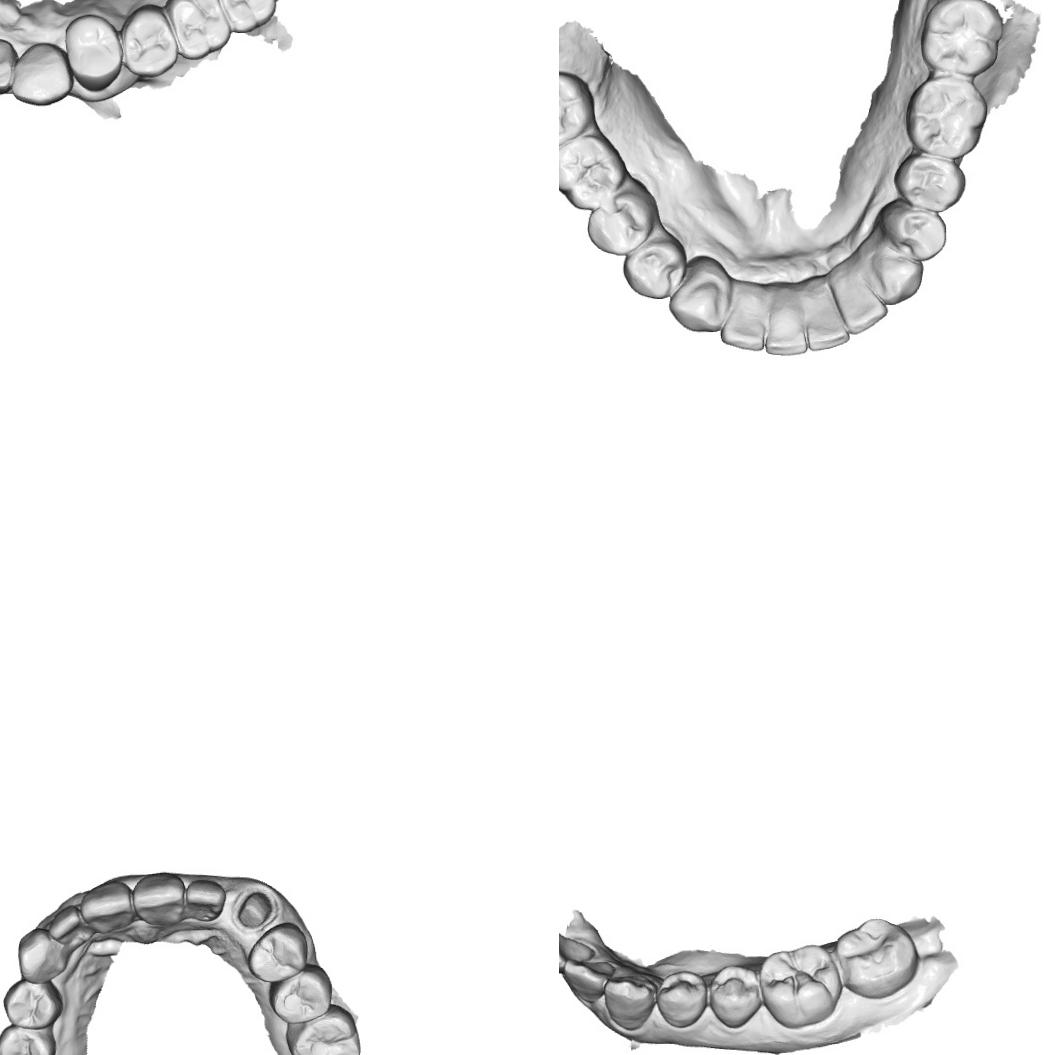canine: (667, 265, 732, 336), (9, 40, 74, 108), (864, 246, 925, 309), (604, 972, 658, 1032), (16, 926, 69, 984)
crown: (230, 886, 278, 934)
incisor: (78, 879, 136, 935), (131, 871, 187, 927), (718, 294, 768, 354), (762, 294, 810, 356), (842, 276, 888, 336), (803, 297, 850, 355), (561, 959, 619, 1006), (47, 904, 90, 948), (185, 878, 227, 923), (559, 927, 598, 970), (0, 39, 15, 96)
molar: (757, 942, 844, 1030), (904, 72, 988, 161), (834, 916, 920, 998), (917, 0, 1006, 76), (559, 132, 627, 214), (285, 1002, 363, 1055), (165, 0, 231, 60), (559, 69, 597, 152), (212, 0, 278, 35)
premolar: (64, 13, 123, 95), (892, 151, 968, 214), (877, 199, 949, 264), (585, 190, 655, 256), (120, 2, 179, 78), (622, 236, 688, 302), (268, 963, 333, 1024), (246, 921, 308, 984), (707, 964, 762, 1030), (1, 977, 64, 1030), (655, 968, 709, 1028), (0, 1023, 58, 1055)
